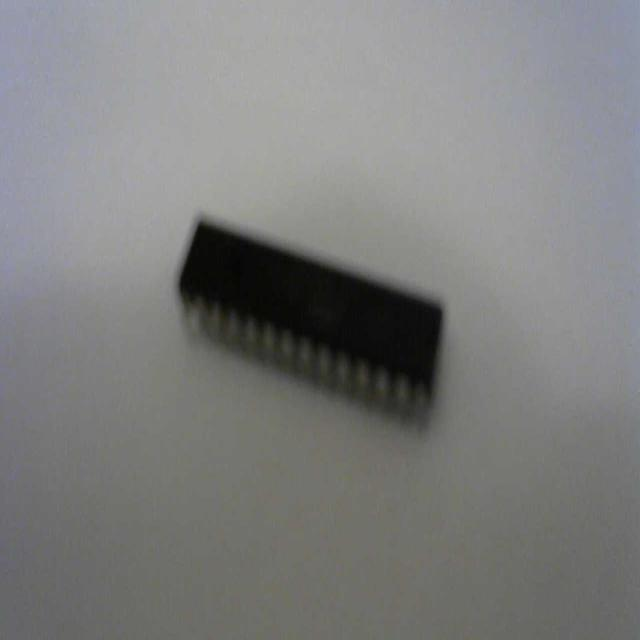atmega: (176, 209, 447, 431)
